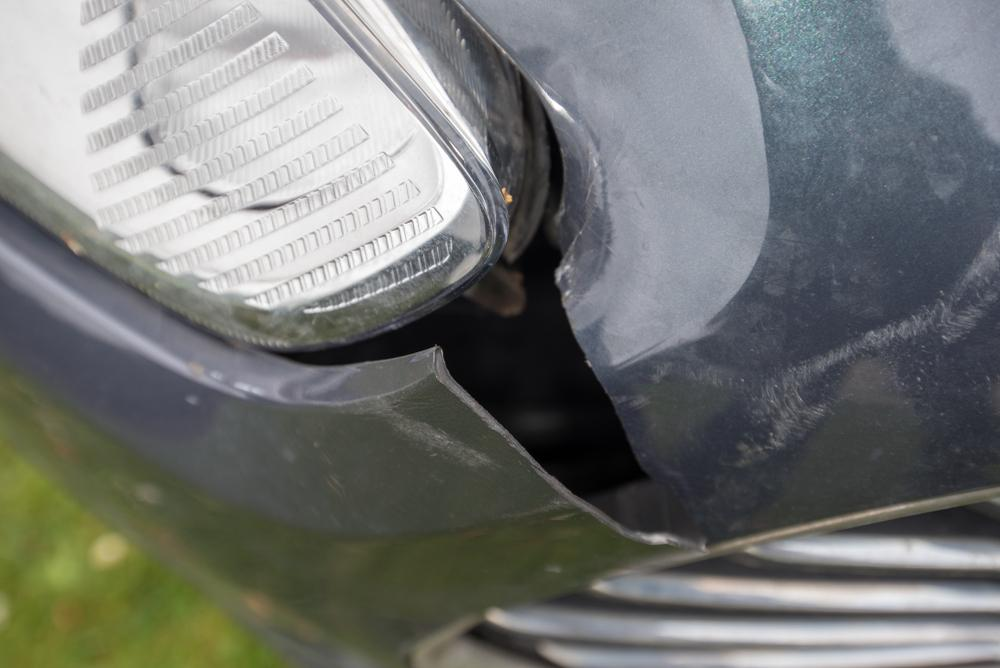crack: (432, 276, 707, 549)
scratch: (720, 217, 1000, 468)
